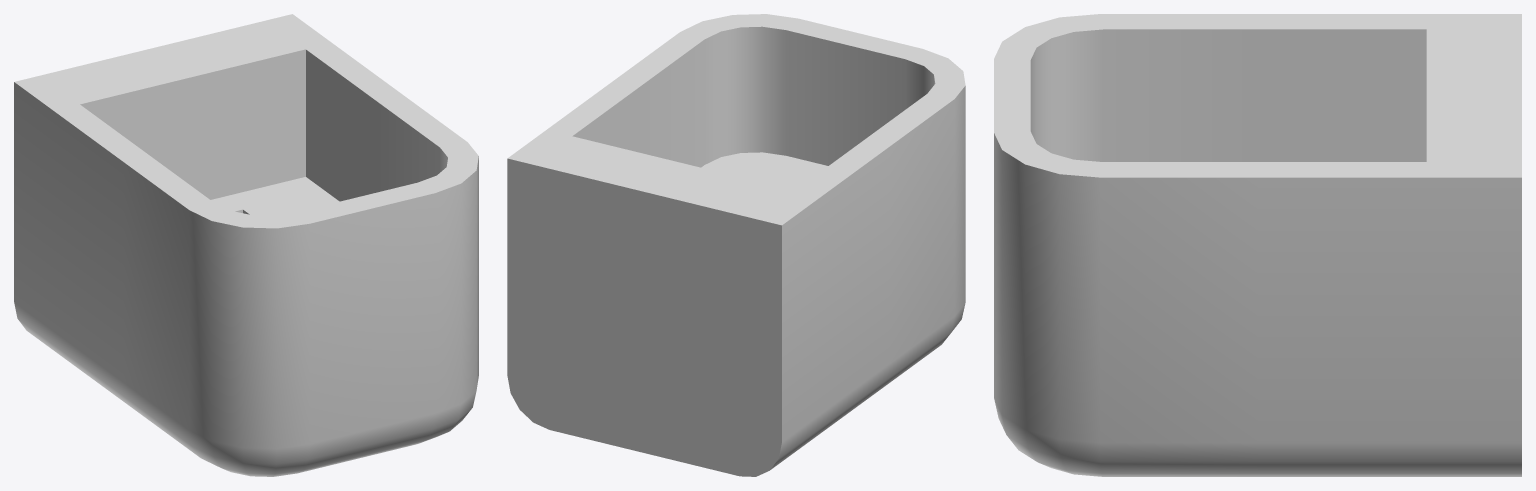
File: Toilet1_C1_01.fbx
The picture shows the model from 3 angles, left to right: view 1: azimuth 30°, elevation 25°; view 2: azimuth 150°, elevation 25°; view 3: azimuth 270°, elevation 25°; orthographic projection. The views are drawn at different scales.
Parts seen in each view (by area): view 1: Toilet1_C1_01; view 2: Toilet1_C1_01; view 3: Toilet1_C1_01.
Part boxes in pixels (bbox=[...]): Toilet1_C1_01: bbox=[14, 14, 478, 476]; Toilet1_C1_01: bbox=[507, 14, 965, 476]; Toilet1_C1_01: bbox=[994, 14, 1521, 476].
Size of the model in its own units: 33 by 30 by 45.
